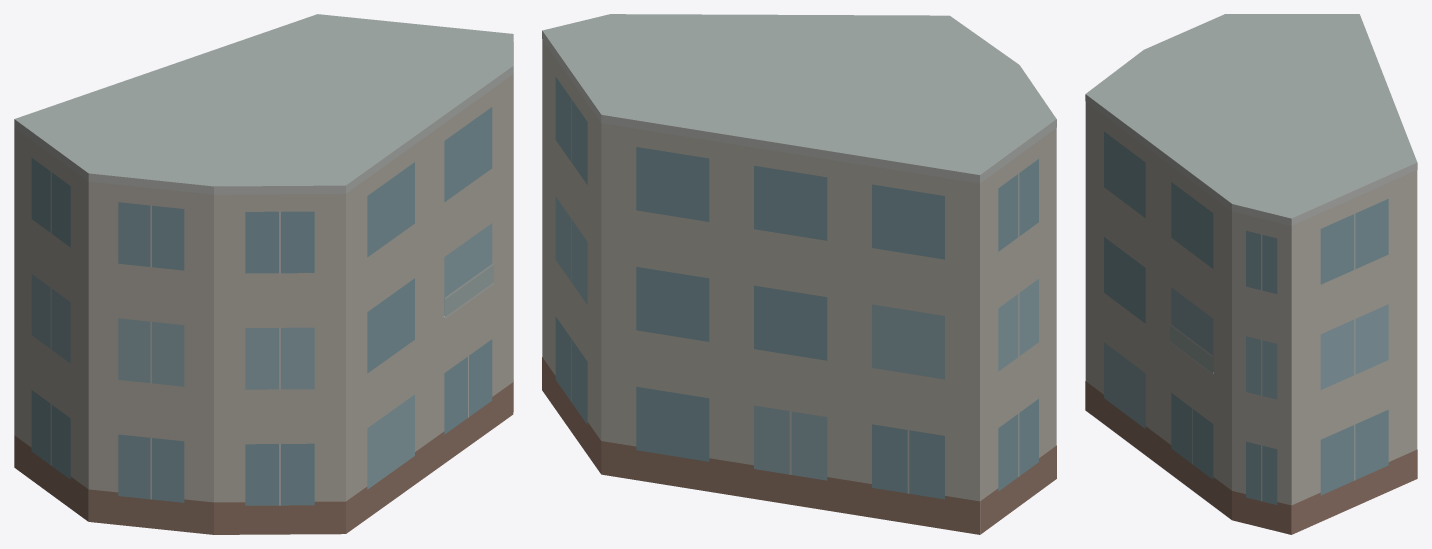
File: survey-upis-32480121.glb
3 renders of one model, left to right at view 1: azimuth 30°, elevation 25°; view 2: azimuth 150°, elevation 25°; view 3: azimuth 270°, elevation 25°, orthographic. The views are drawn at different scales.
Parts seen in each view (by area): view 1: survey-upis-32480121.tmp; view 2: survey-upis-32480121.tmp; view 3: survey-upis-32480121.tmp.
Part boxes in pixels (x1,y1,x2,y2): survey-upis-32480121.tmp: (14,14,513,534); survey-upis-32480121.tmp: (542,14,1056,534); survey-upis-32480121.tmp: (1085,14,1417,534).
Bounding box in the file's own units: 14.44 × 10.4 × 9.9.
